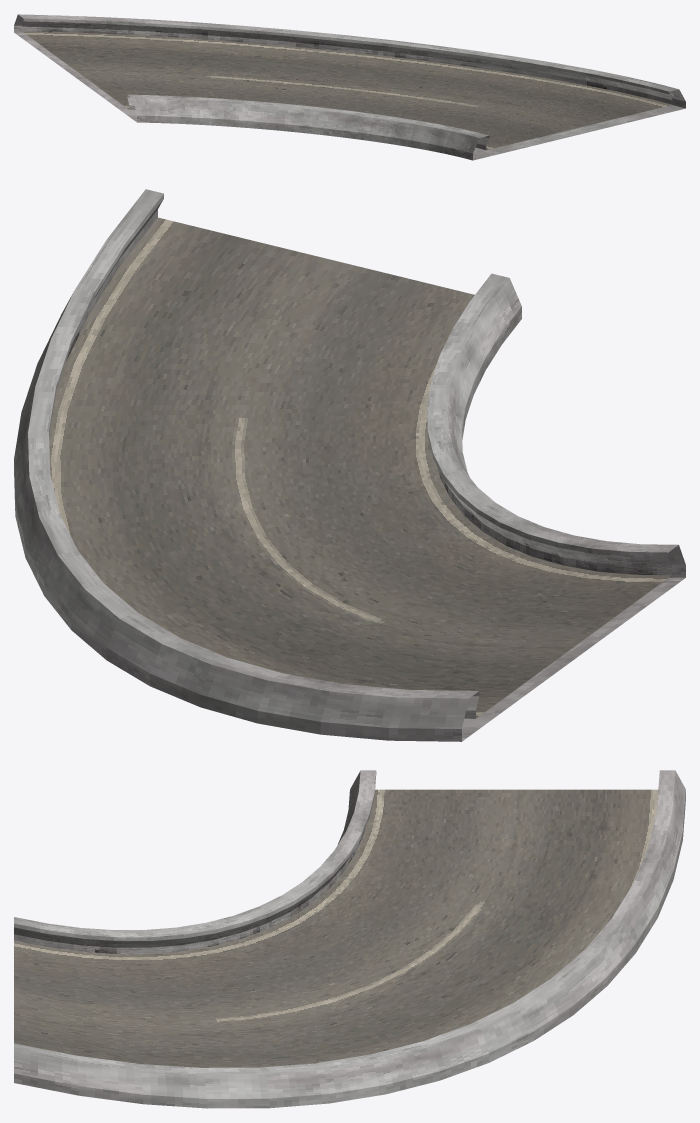
Rendered from turn-left2x2.glb.
The picture shows the model from 3 angles, top to bottom: view 1: azimuth 30°, elevation 25°; view 2: azimuth 150°, elevation 25°; view 3: azimuth 270°, elevation 25°; orthographic projection. The views are drawn at different scales.
Visible parts, largest first — view 1: road-Turn-BiSlopeDown-BiSlopeUp-Even-Left-Size2; view 2: road-Turn-BiSlopeDown-BiSlopeUp-Even-Left-Size2; view 3: road-Turn-BiSlopeDown-BiSlopeUp-Even-Left-Size2.
Boxes of the visible parts, x1=… form: road-Turn-BiSlopeDown-BiSlopeUp-Even-Left-Size2: x1=14, y1=14, x2=685, y2=160; road-Turn-BiSlopeDown-BiSlopeUp-Even-Left-Size2: x1=14, y1=189, x2=685, y2=741; road-Turn-BiSlopeDown-BiSlopeUp-Even-Left-Size2: x1=14, y1=770, x2=685, y2=1108.
Bounding box in the file's own units: 2 × 0.3008 × 2.
2 materials, 2 textured.
